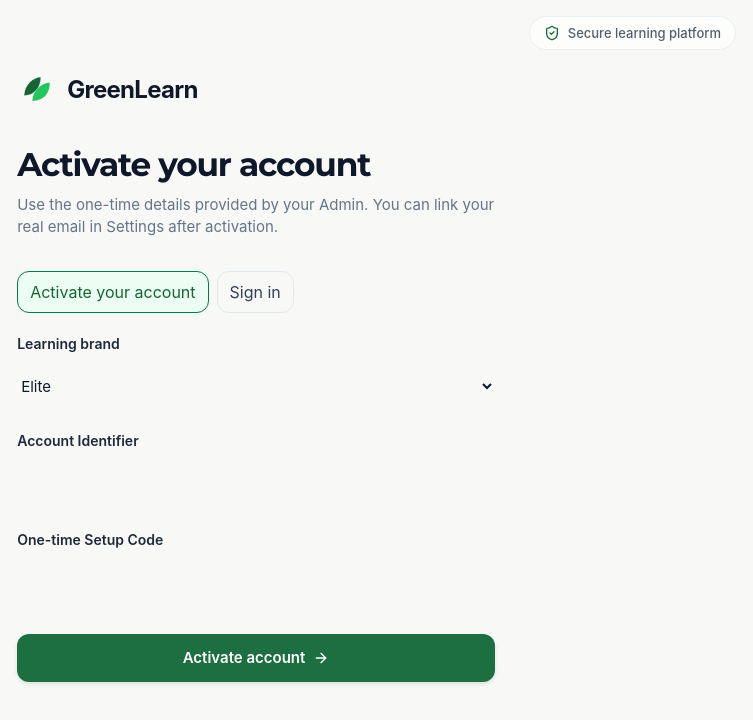
Test: SignInPage navigation after sign-in › uses the Nexus logo when the Nexus account brand is selected
Select "Nexus" in the dropdown with id "signin-brand" at [256, 387], box [17,363,495,410]
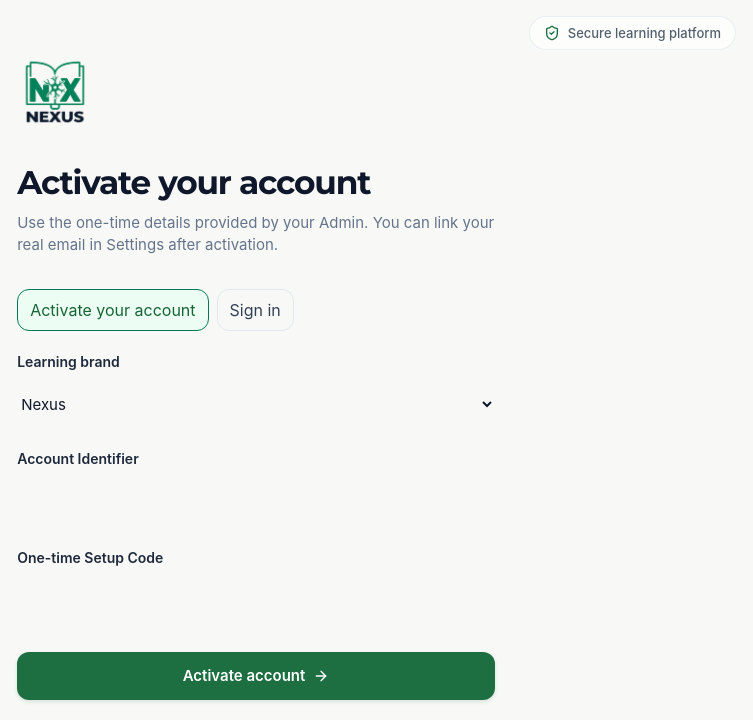
Result: the link named "Nexus sign in" is shown at [17,52,93,128]
